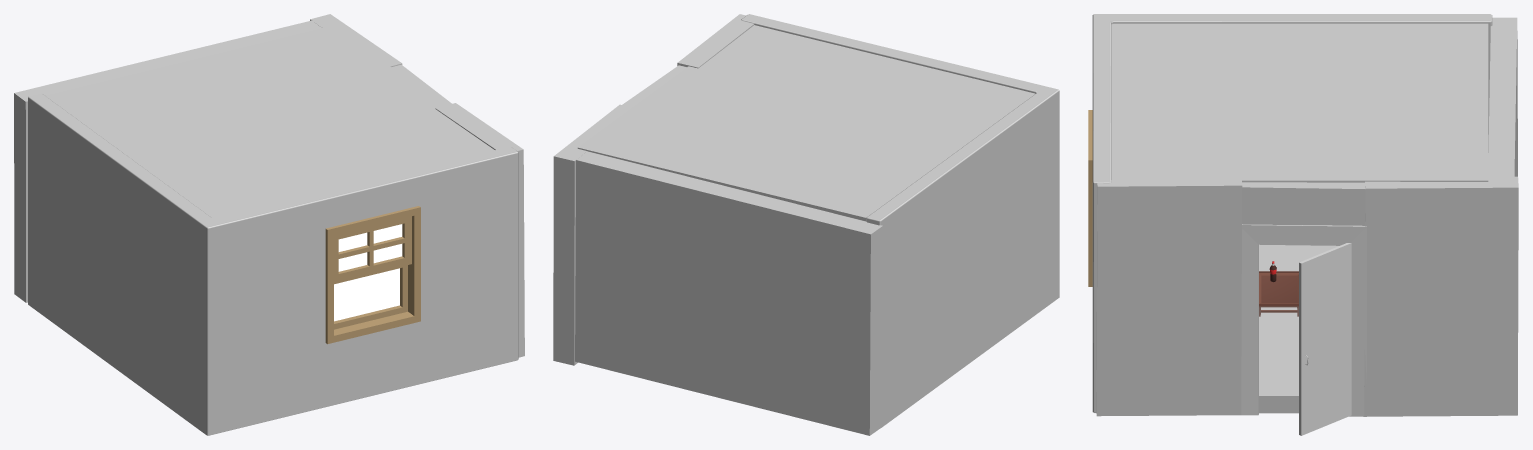
Rendered from Sala.glb.
3 views of the same model, side by side, from view 1: azimuth 30°, elevation 25°; view 2: azimuth 150°, elevation 25°; view 3: azimuth 270°, elevation 25° (orthographic). The views are drawn at different scales.
Parts seen in each view (by area): view 1: Wall, Floor.005, Window, Floor.001, Floor.002, Floor.003, Floor.004; view 2: Floor.001, Floor.005, Wall, Floor.003, Floor.002, Floor.004; view 3: Floor.005, Floor.003, Floor.002, door_heavy_metal, Wall, door_frame_metal, Floor, Floor.004, Floor.001, coffee_table_001, Window.
Part boxes in pixels (left/top/right/bottom): Wall: left=28, top=93, right=518, bottom=435; Floor.005: left=45, top=25, right=494, bottom=218; Window: left=325, top=206, right=420, bottom=344; Floor.001: left=14, top=20, right=321, bottom=302; Floor.002: left=435, top=103, right=524, bottom=357; Floor.003: left=310, top=14, right=402, bottom=66; Floor.004: left=391, top=64, right=451, bottom=105; Floor.001: left=575, top=151, right=882, bottom=435; Floor.005: left=577, top=25, right=1035, bottom=221; Wall: left=741, top=14, right=1059, bottom=427; Floor.003: left=553, top=104, right=631, bottom=365; Floor.002: left=677, top=14, right=754, bottom=68; Floor.004: left=622, top=65, right=686, bottom=107; Floor.005: left=1111, top=23, right=1488, bottom=182; Floor.003: left=1364, top=176, right=1518, bottom=416; Floor.002: left=1096, top=174, right=1242, bottom=416; door_heavy_metal: left=1299, top=243, right=1351, bottom=435; Wall: left=1092, top=14, right=1492, bottom=413; door_frame_metal: left=1241, top=224, right=1366, bottom=416; Floor: left=1259, top=244, right=1338, bottom=413; Floor.004: left=1242, top=182, right=1365, bottom=225; Floor.001: left=1488, top=17, right=1517, bottom=176; coffee_table_001: left=1259, top=271, right=1298, bottom=316; Window: left=1088, top=110, right=1092, bottom=286.
Bounding box in the file's own units: 9.64 × 5.37 × 9.05.
Materials: 10 (1 with a texture image).
